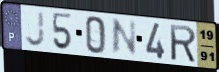0: (84, 15, 107, 56)
4: (144, 21, 168, 61)
5: (51, 11, 74, 52)
J: (23, 10, 47, 49)
N: (110, 18, 138, 57)
R: (168, 23, 198, 65)
